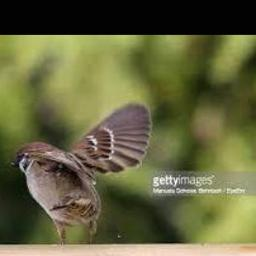Sparrow: (6, 100, 151, 245)
